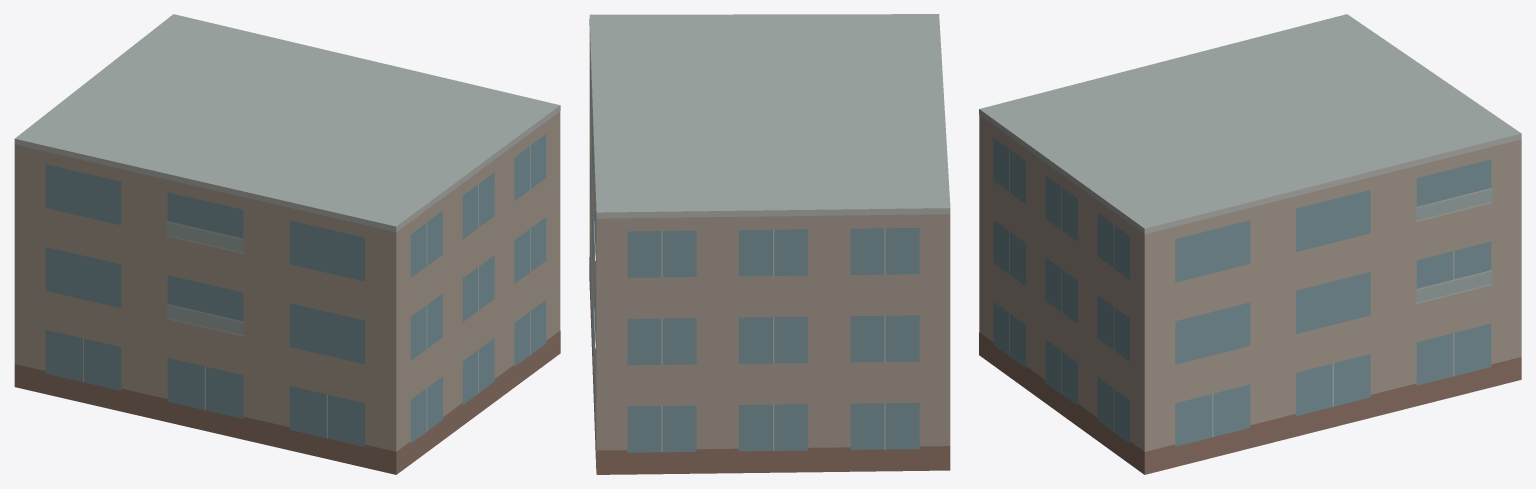
Rendered from survey-upis-32616637.glb.
The picture shows the model from 3 angles, left to right: view 1: azimuth 30°, elevation 25°; view 2: azimuth 150°, elevation 25°; view 3: azimuth 270°, elevation 25°; orthographic projection. The views are drawn at different scales.
Visible parts, largest first — view 1: survey-upis-32616637.tmp; view 2: survey-upis-32616637.tmp; view 3: survey-upis-32616637.tmp.
Boxes of the visible parts, left/top/right/bottom form: survey-upis-32616637.tmp: left=14, top=14, right=560, bottom=474; survey-upis-32616637.tmp: left=589, top=14, right=950, bottom=474; survey-upis-32616637.tmp: left=979, top=14, right=1521, bottom=474.
Size of the model in its own units: 19.82 by 10.6 by 21.17.
